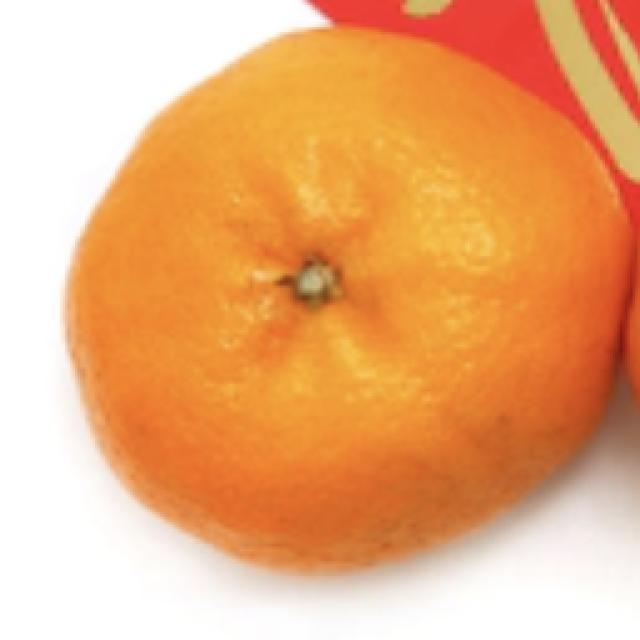Orange: (62, 23, 633, 574)
